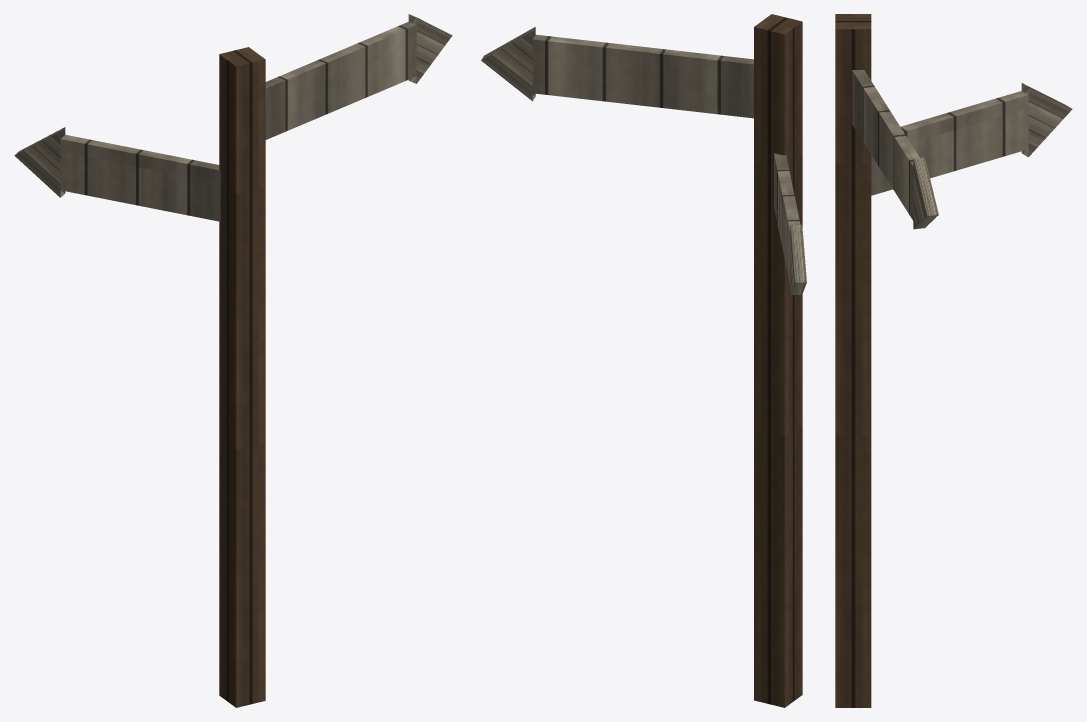
File: Signpost_1_LOD2.gltf
3 views of the same model, side by side, from view 1: azimuth 30°, elevation 25°; view 2: azimuth 150°, elevation 25°; view 3: azimuth 270°, elevation 25° (orthographic). The views are drawn at different scales.
Visible parts, largest first — view 1: Signpost_1_LOD2; view 2: Signpost_1_LOD2; view 3: Signpost_1_LOD2.
Part boxes in pixels (x1,y1,x2,y2): Signpost_1_LOD2: [14, 14, 452, 707]; Signpost_1_LOD2: [481, 14, 806, 707]; Signpost_1_LOD2: [835, 14, 1072, 707].
Bounding box in the file's own units: 1.52 × 2.5 × 0.7923.
Materials: 2 (2 with a texture image).
